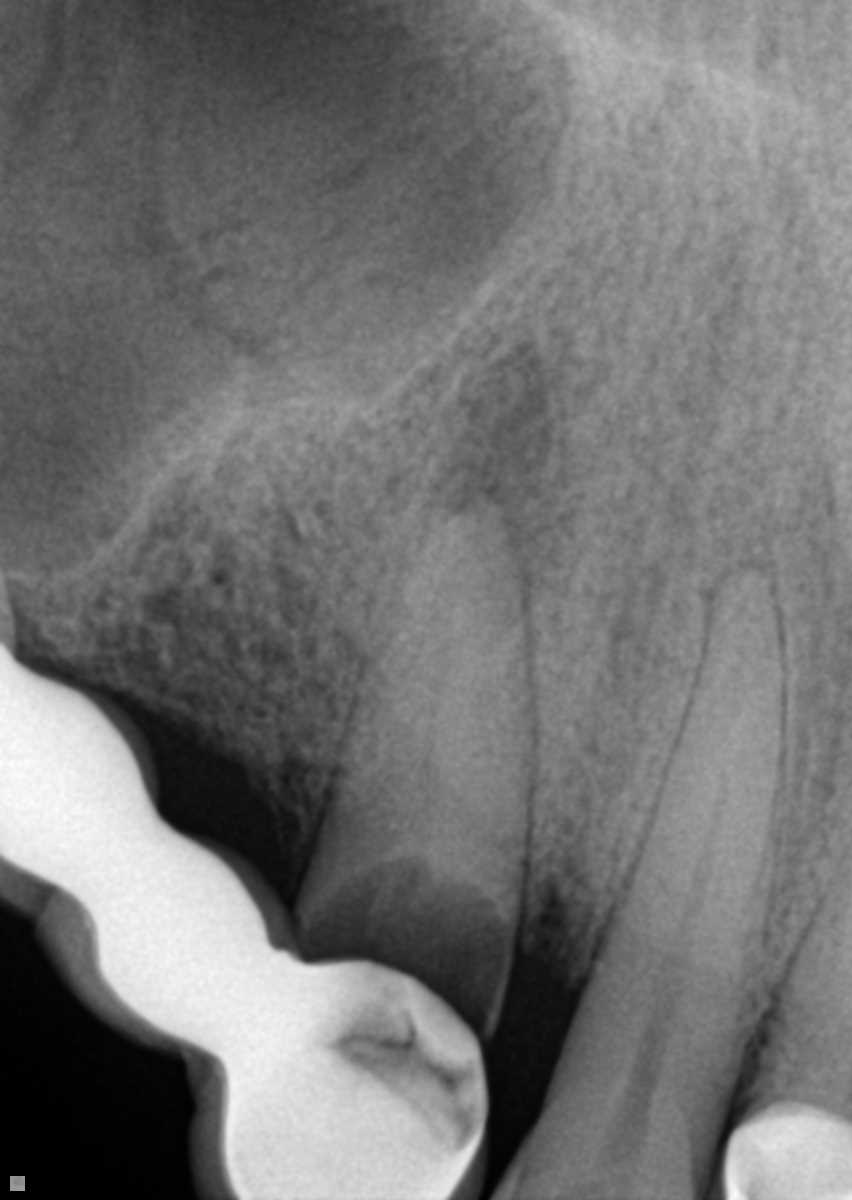Apical Lesion: (419, 342, 560, 556)
Main Canal: (648, 716, 733, 1024), (418, 633, 446, 787)
Main Root: (582, 561, 786, 1036), (302, 503, 530, 906), (770, 813, 852, 1065)
decay: (302, 850, 502, 1028)
